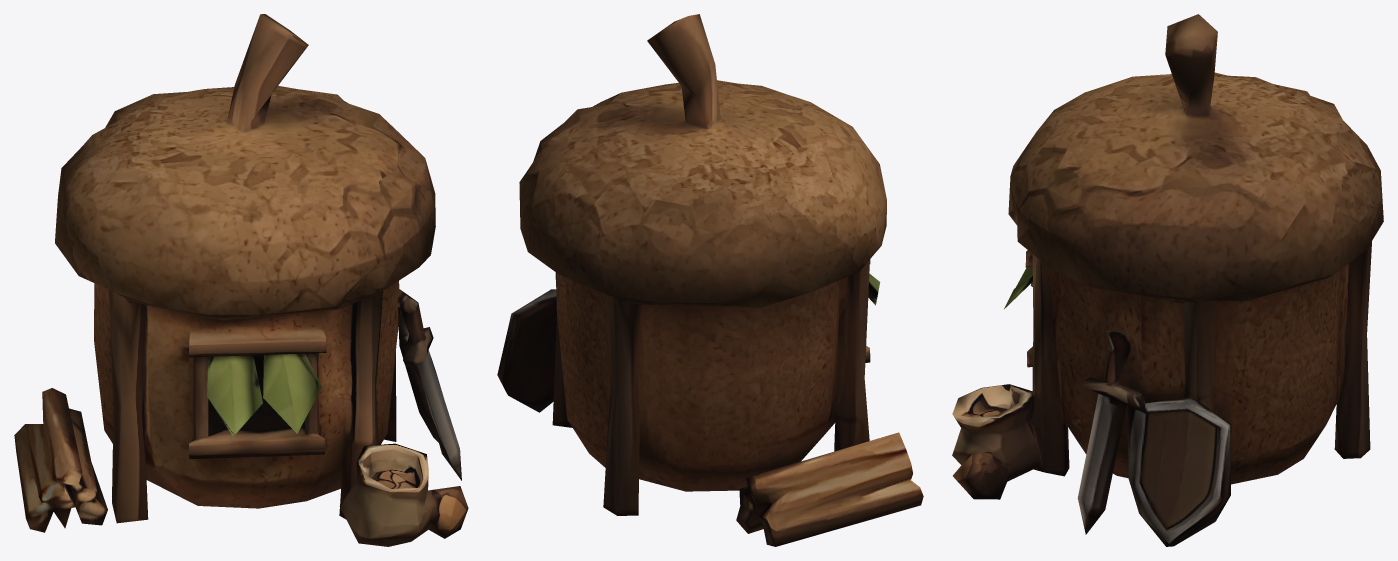
Rendered from House.glb.
3 renders of one model, left to right at view 1: azimuth 30°, elevation 25°; view 2: azimuth 150°, elevation 25°; view 3: azimuth 270°, elevation 25°, orthographic. The views are drawn at different scales.
Parts seen in each view (by area): view 1: tripo_node_2035fe4d-5edf-4791-a1c4-aa86dfd650ed; view 2: tripo_node_2035fe4d-5edf-4791-a1c4-aa86dfd650ed; view 3: tripo_node_2035fe4d-5edf-4791-a1c4-aa86dfd650ed.
Part boxes in pixels (x1,y1,x2,y2): tripo_node_2035fe4d-5edf-4791-a1c4-aa86dfd650ed: (14,14,468,546); tripo_node_2035fe4d-5edf-4791-a1c4-aa86dfd650ed: (497,14,923,546); tripo_node_2035fe4d-5edf-4791-a1c4-aa86dfd650ed: (952,14,1383,546).
Size of the model in its own units: 0.95 by 0.9833 by 0.8501.
1 material, 1 textured.
